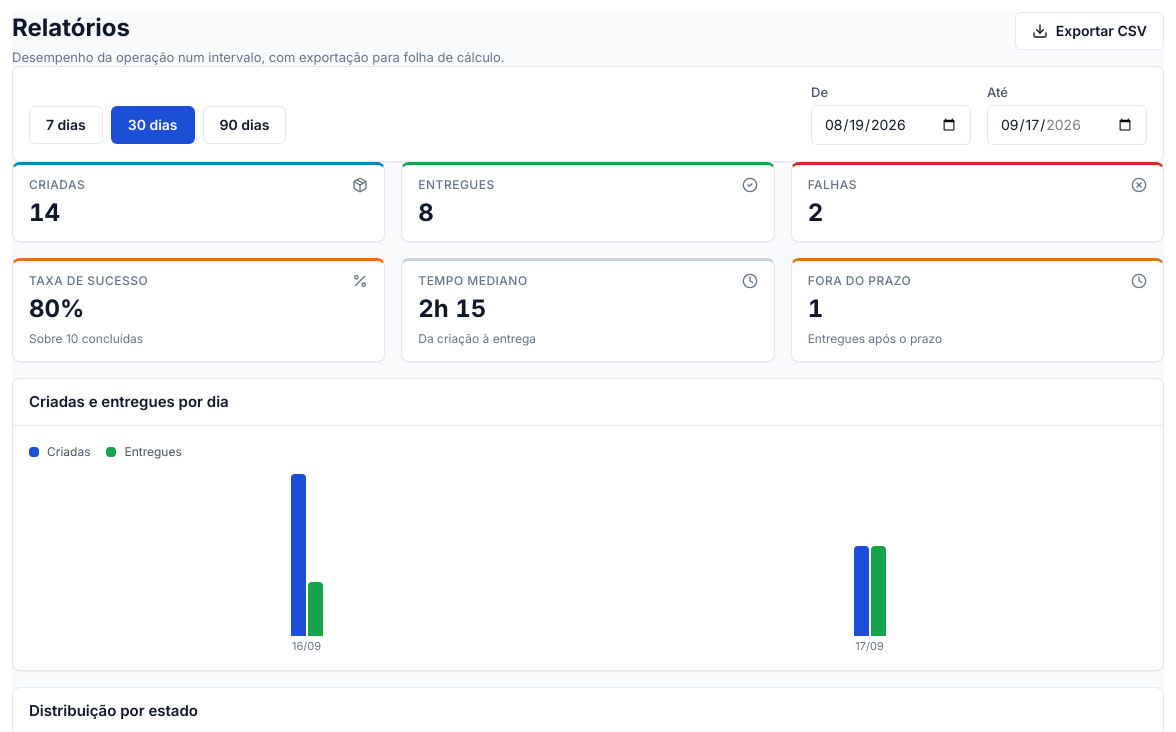
Reports › explains a failed export instead of downloading the error
Expected: the text "14" is shown, [29,198,60,227]
Click the button "Exportar CSV".
click(1089, 31)  # box [1015,12,1164,50]
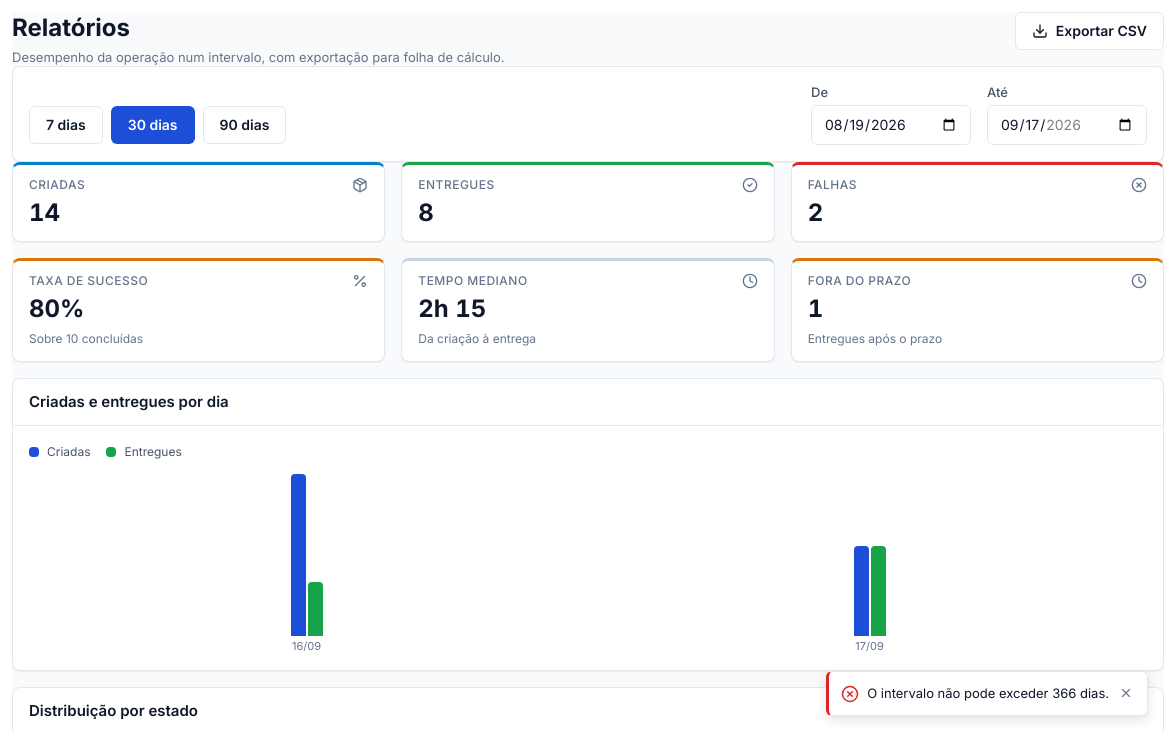
Result: the text "O intervalo não pode exceder 366 dias." is shown at [867,684,1109,702]
